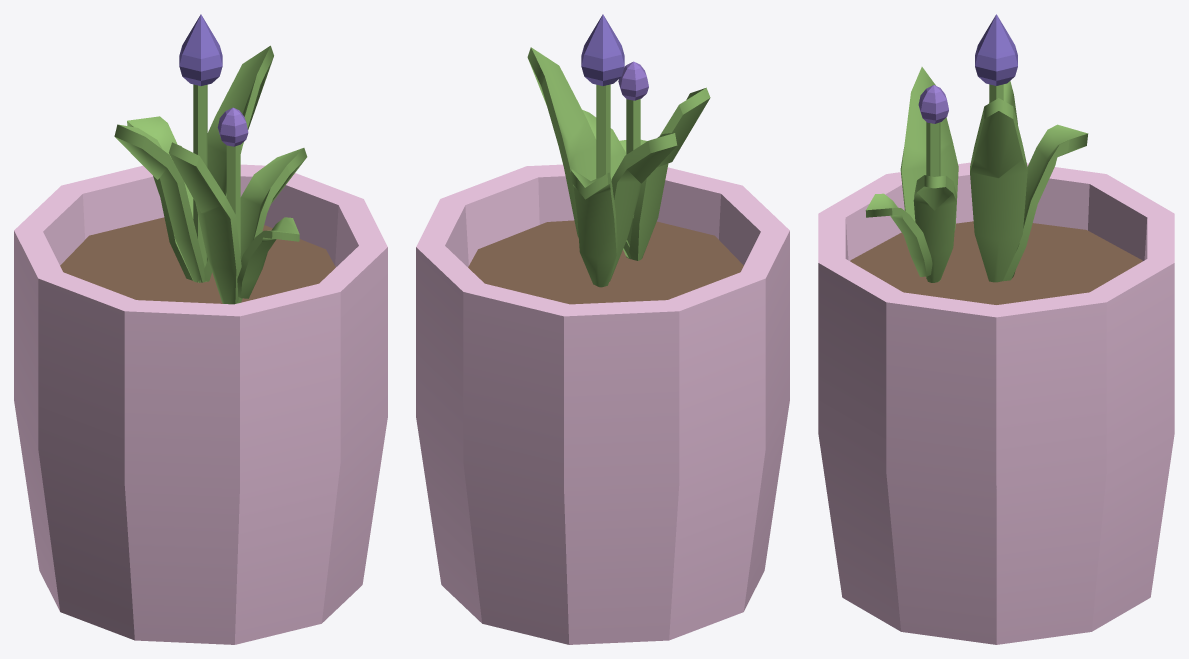
Rendered from plant05_04.gltf.
3 views of the same model, side by side, from view 1: azimuth 30°, elevation 25°; view 2: azimuth 150°, elevation 25°; view 3: azimuth 270°, elevation 25° (orthographic).
Parts seen in each view (by area): view 1: plant05_stage01:pot, plant05_stage01:dirt, plant05_stage04:plant05_stage02:pCube1, plant05_stage03:plant05_stage02:pCube3, plant05_stage03:plant05_stage02:pCube1, plant05_stage04:plant05_stage02:pCube3, plant05_stage03:pSphere1, plant05_stage04:plant05_stage02:pCube2, plant05_stage03:plant05_stage02:pCube2, plant05_stage03:plant05_stage02:pCylinder1, plant05_stage04:plant05_stage02:pCylinder1, plant05_stage04:pSphere1; view 2: plant05_stage01:pot, plant05_stage01:dirt, plant05_stage03:plant05_stage02:pCube1, plant05_stage03:plant05_stage02:pCube2, plant05_stage04:plant05_stage02:pCube1, plant05_stage03:plant05_stage02:pCube3, plant05_stage03:pSphere1, plant05_stage03:plant05_stage02:pCylinder1, plant05_stage04:pSphere1, plant05_stage04:plant05_stage02:pCylinder1, plant05_stage04:plant05_stage02:pCube3; view 3: plant05_stage01:pot, plant05_stage01:dirt, plant05_stage03:plant05_stage02:pCube1, plant05_stage04:plant05_stage02:pCube1, plant05_stage04:plant05_stage02:pCube3, plant05_stage03:plant05_stage02:pCube2, plant05_stage03:pSphere1, plant05_stage04:plant05_stage02:pCube2, plant05_stage04:pSphere1, plant05_stage04:plant05_stage02:pCylinder1.
Boxes of the visible parts, box(x1,y1,x2,y2) form: plant05_stage01:pot: box(14, 164, 387, 644); plant05_stage01:dirt: box(60, 217, 335, 303); plant05_stage04:plant05_stage02:pCube1: box(169, 142, 241, 304); plant05_stage03:plant05_stage02:pCube3: box(114, 124, 204, 282); plant05_stage03:plant05_stage02:pCube1: box(199, 45, 273, 282); plant05_stage04:plant05_stage02:pCube3: box(238, 148, 307, 303); plant05_stage03:pSphere1: box(179, 14, 222, 85); plant05_stage04:plant05_stage02:pCube2: box(237, 217, 299, 298); plant05_stage03:plant05_stage02:pCube2: box(127, 116, 193, 280); plant05_stage03:plant05_stage02:pCylinder1: box(193, 84, 207, 282); plant05_stage04:plant05_stage02:pCylinder1: box(226, 144, 240, 303); plant05_stage04:pSphere1: box(217, 107, 248, 146); plant05_stage01:pot: box(416, 164, 789, 644); plant05_stage01:dirt: box(468, 220, 743, 304); plant05_stage03:plant05_stage02:pCube1: box(527, 47, 596, 237); plant05_stage03:plant05_stage02:pCube2: box(570, 169, 618, 287); plant05_stage04:plant05_stage02:pCube1: box(628, 87, 710, 260); plant05_stage03:plant05_stage02:pCube3: box(609, 133, 677, 281); plant05_stage03:pSphere1: box(581, 14, 624, 85); plant05_stage03:plant05_stage02:pCylinder1: box(596, 84, 610, 178); plant05_stage04:pSphere1: box(618, 61, 648, 100); plant05_stage04:plant05_stage02:pCylinder1: box(626, 99, 640, 257); plant05_stage04:plant05_stage02:pCube3: box(582, 110, 631, 259); plant05_stage01:pot: box(818, 162, 1174, 644); plant05_stage01:dirt: box(850, 221, 1142, 304); plant05_stage03:plant05_stage02:pCube1: box(970, 98, 1027, 282); plant05_stage04:plant05_stage02:pCube1: box(900, 67, 958, 280); plant05_stage04:plant05_stage02:pCube3: box(913, 175, 956, 282); plant05_stage03:plant05_stage02:pCube2: box(1003, 124, 1088, 281); plant05_stage03:pSphere1: box(975, 14, 1017, 85); plant05_stage04:plant05_stage02:pCube2: box(865, 193, 932, 276); plant05_stage04:pSphere1: box(918, 85, 948, 123); plant05_stage04:plant05_stage02:pCylinder1: box(926, 122, 940, 281).
Size of the model in its own units: 0.0179 by 0.0296 by 0.017.
Materials: 1 (1 with a texture image).
